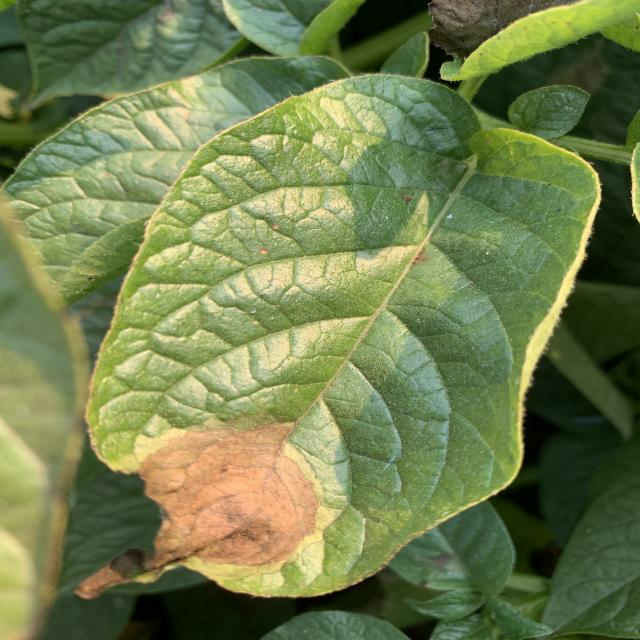lateblight: (140, 424, 318, 570)
